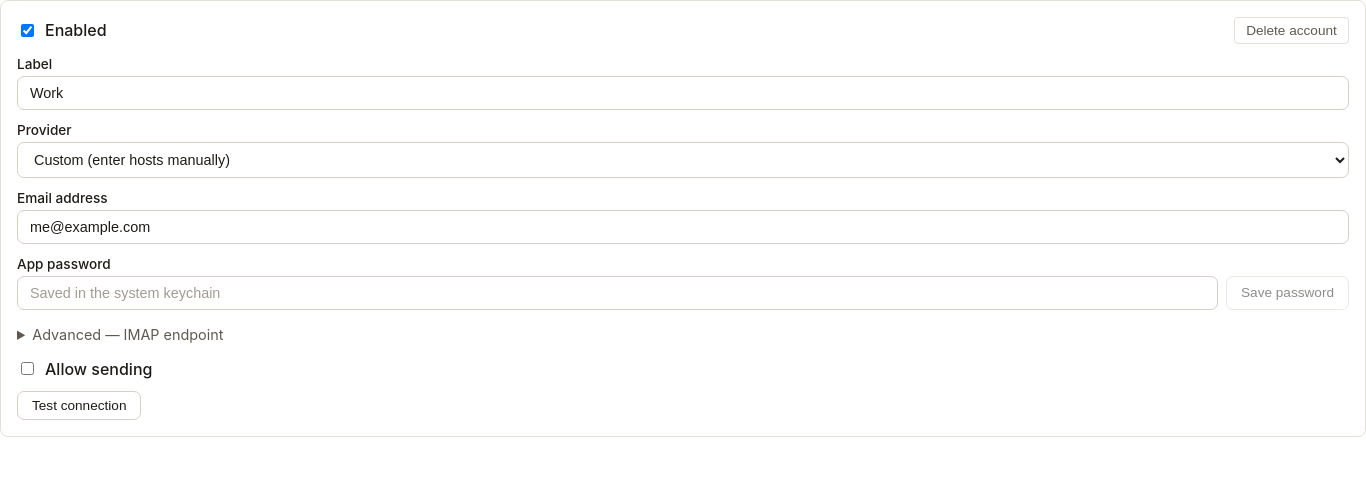
Test case: EmailAccountForm password › keeps nothing when the test fails
Type "wrong" into the password field labelled "App password".
click(618, 293); type("wrong")  # box x1=17 y1=276 x2=1218 y2=310
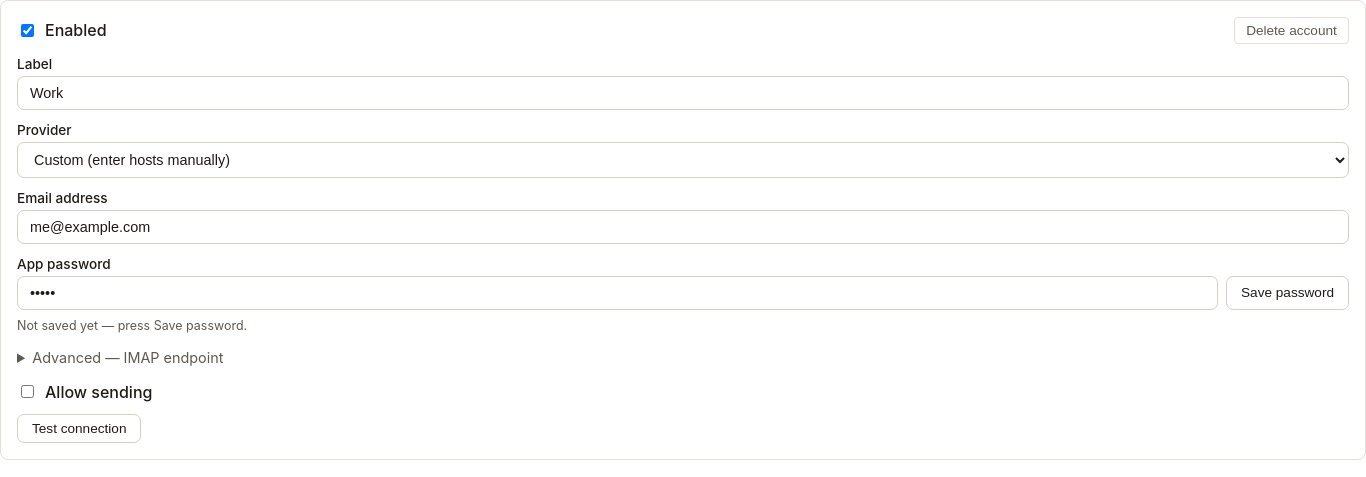
Click the button "Save password".
click(1288, 293)  # box x1=1226 y1=276 x2=1349 y2=310
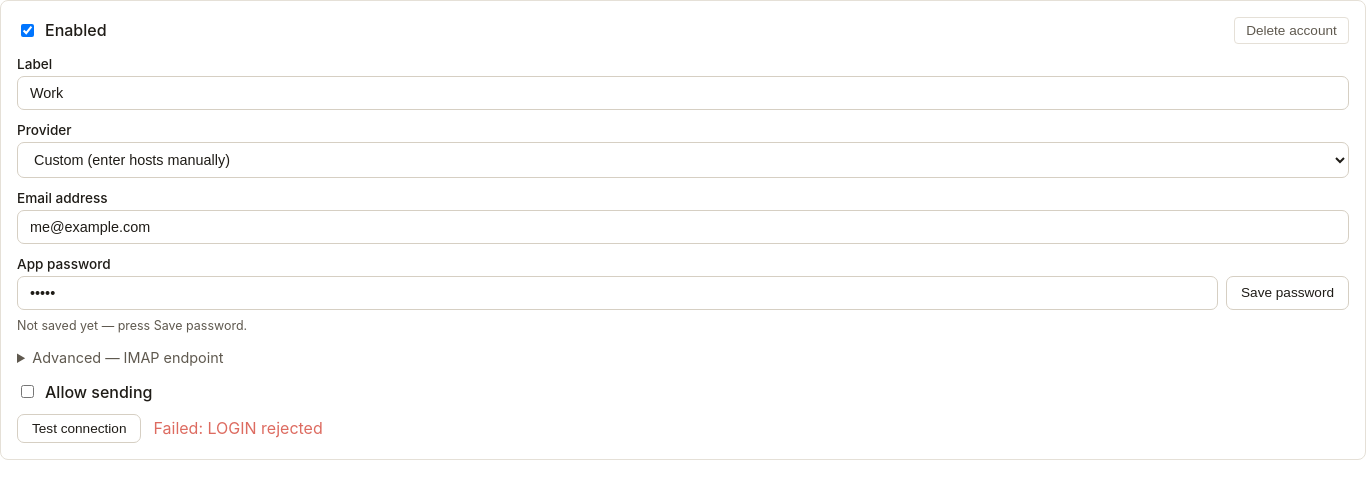
expect the text "Failed: LOGIN rejected" is shown: met, box x1=154 y1=418 x2=323 y2=438
